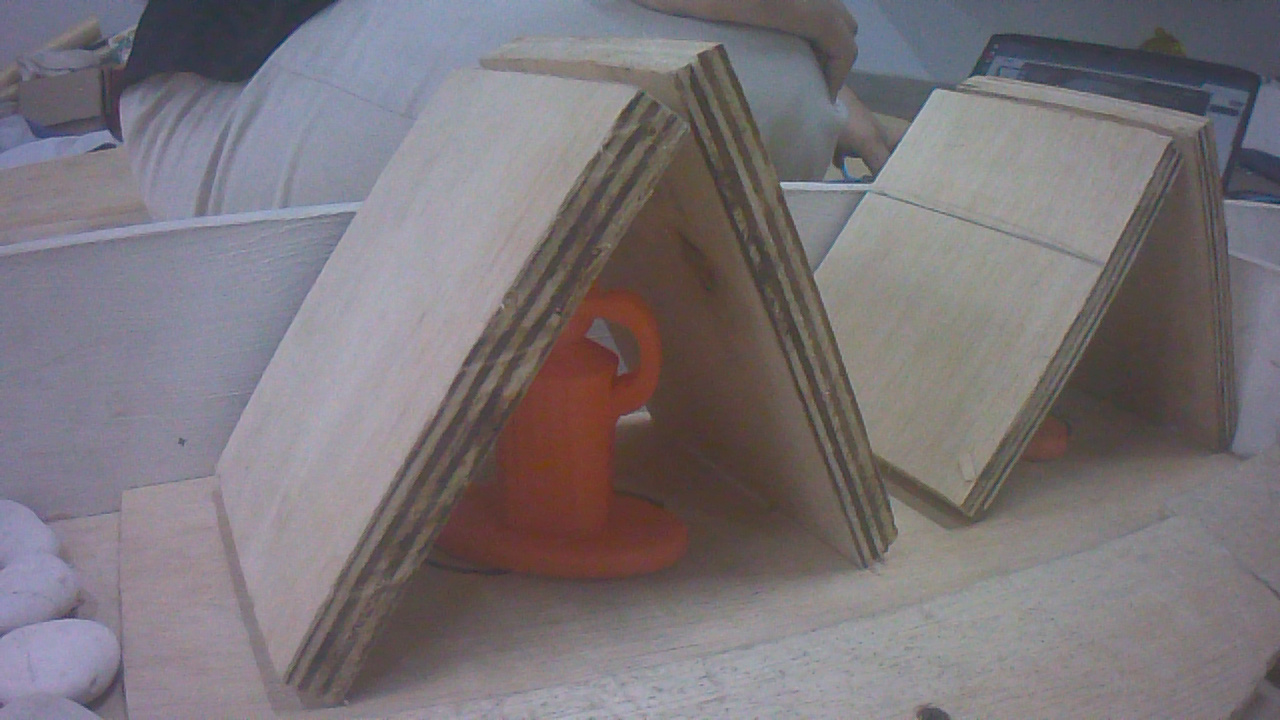real: (447, 281, 697, 585)
